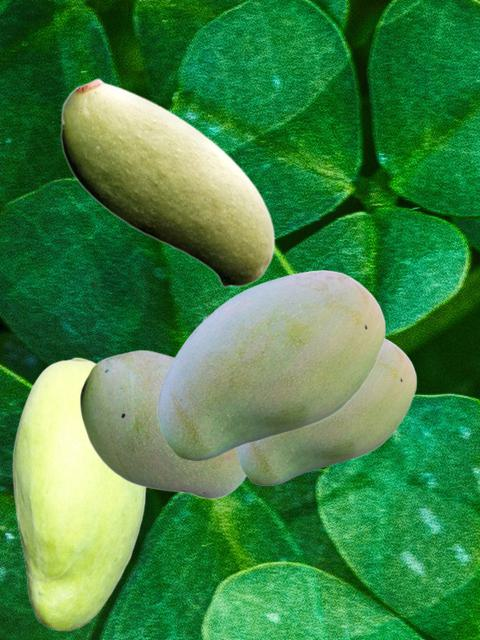green_mango: (60, 77, 274, 287), (157, 270, 385, 459), (12, 357, 145, 630), (236, 338, 416, 484), (79, 349, 246, 498)
